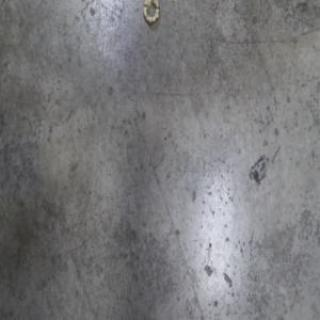Nuttrack_idkeyframe: (142, 0, 160, 28)
